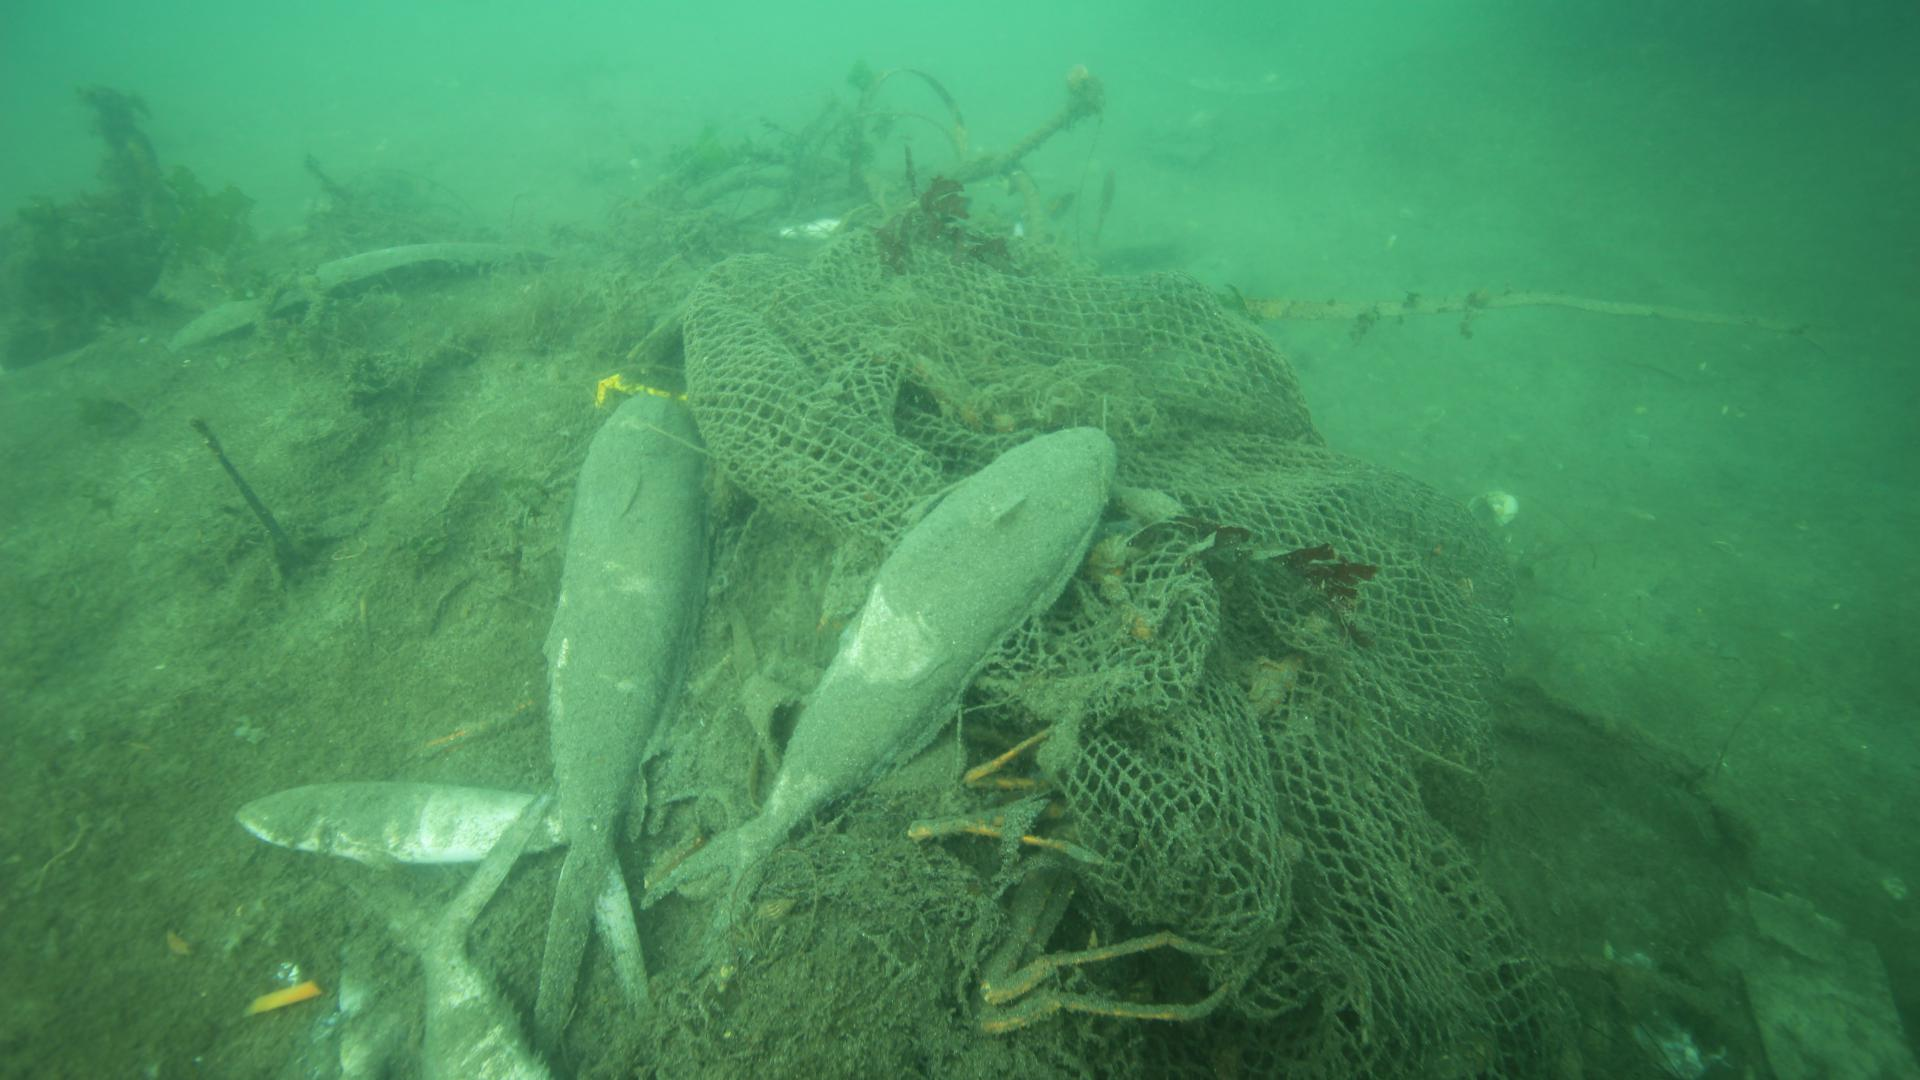fish net: (679, 228, 1589, 1080)
